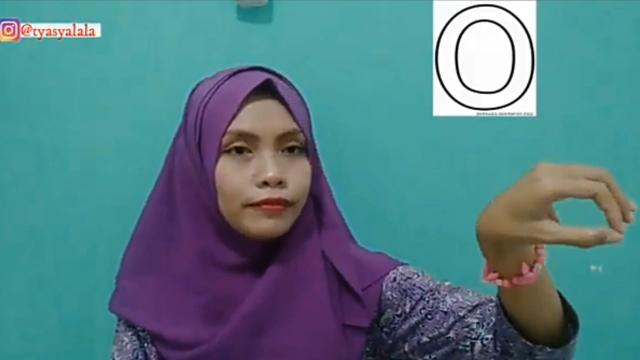O: (476, 157, 640, 261)
